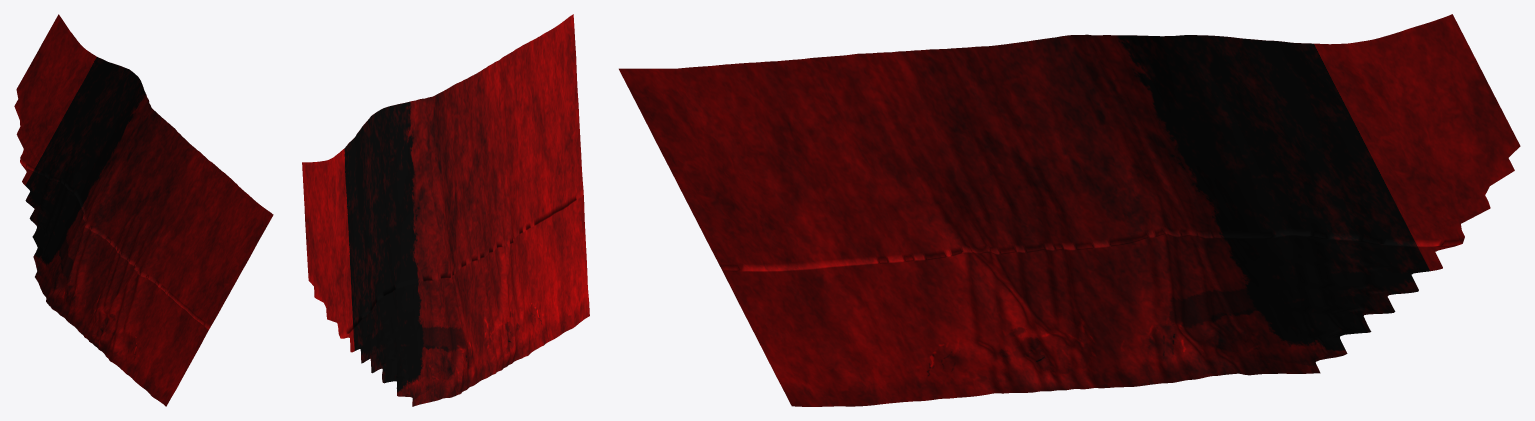
The model's file is wall.glb.
The picture shows the model from 3 angles, left to right: view 1: azimuth 30°, elevation 25°; view 2: azimuth 150°, elevation 25°; view 3: azimuth 270°, elevation 25°; orthographic projection. The views are drawn at different scales.
Parts seen in each view (by area): view 1: cliff_wall; view 2: cliff_wall; view 3: cliff_wall.
Boxes of the visible parts, <box> form: cliff_wall: <box>14,14,273,406</box>; cliff_wall: <box>302,14,589,406</box>; cliff_wall: <box>619,14,1520,406</box>.
Bounding box in the file's own units: 10.26 × 31.12 × 55.78.
Materials: 1 (1 with a texture image).
